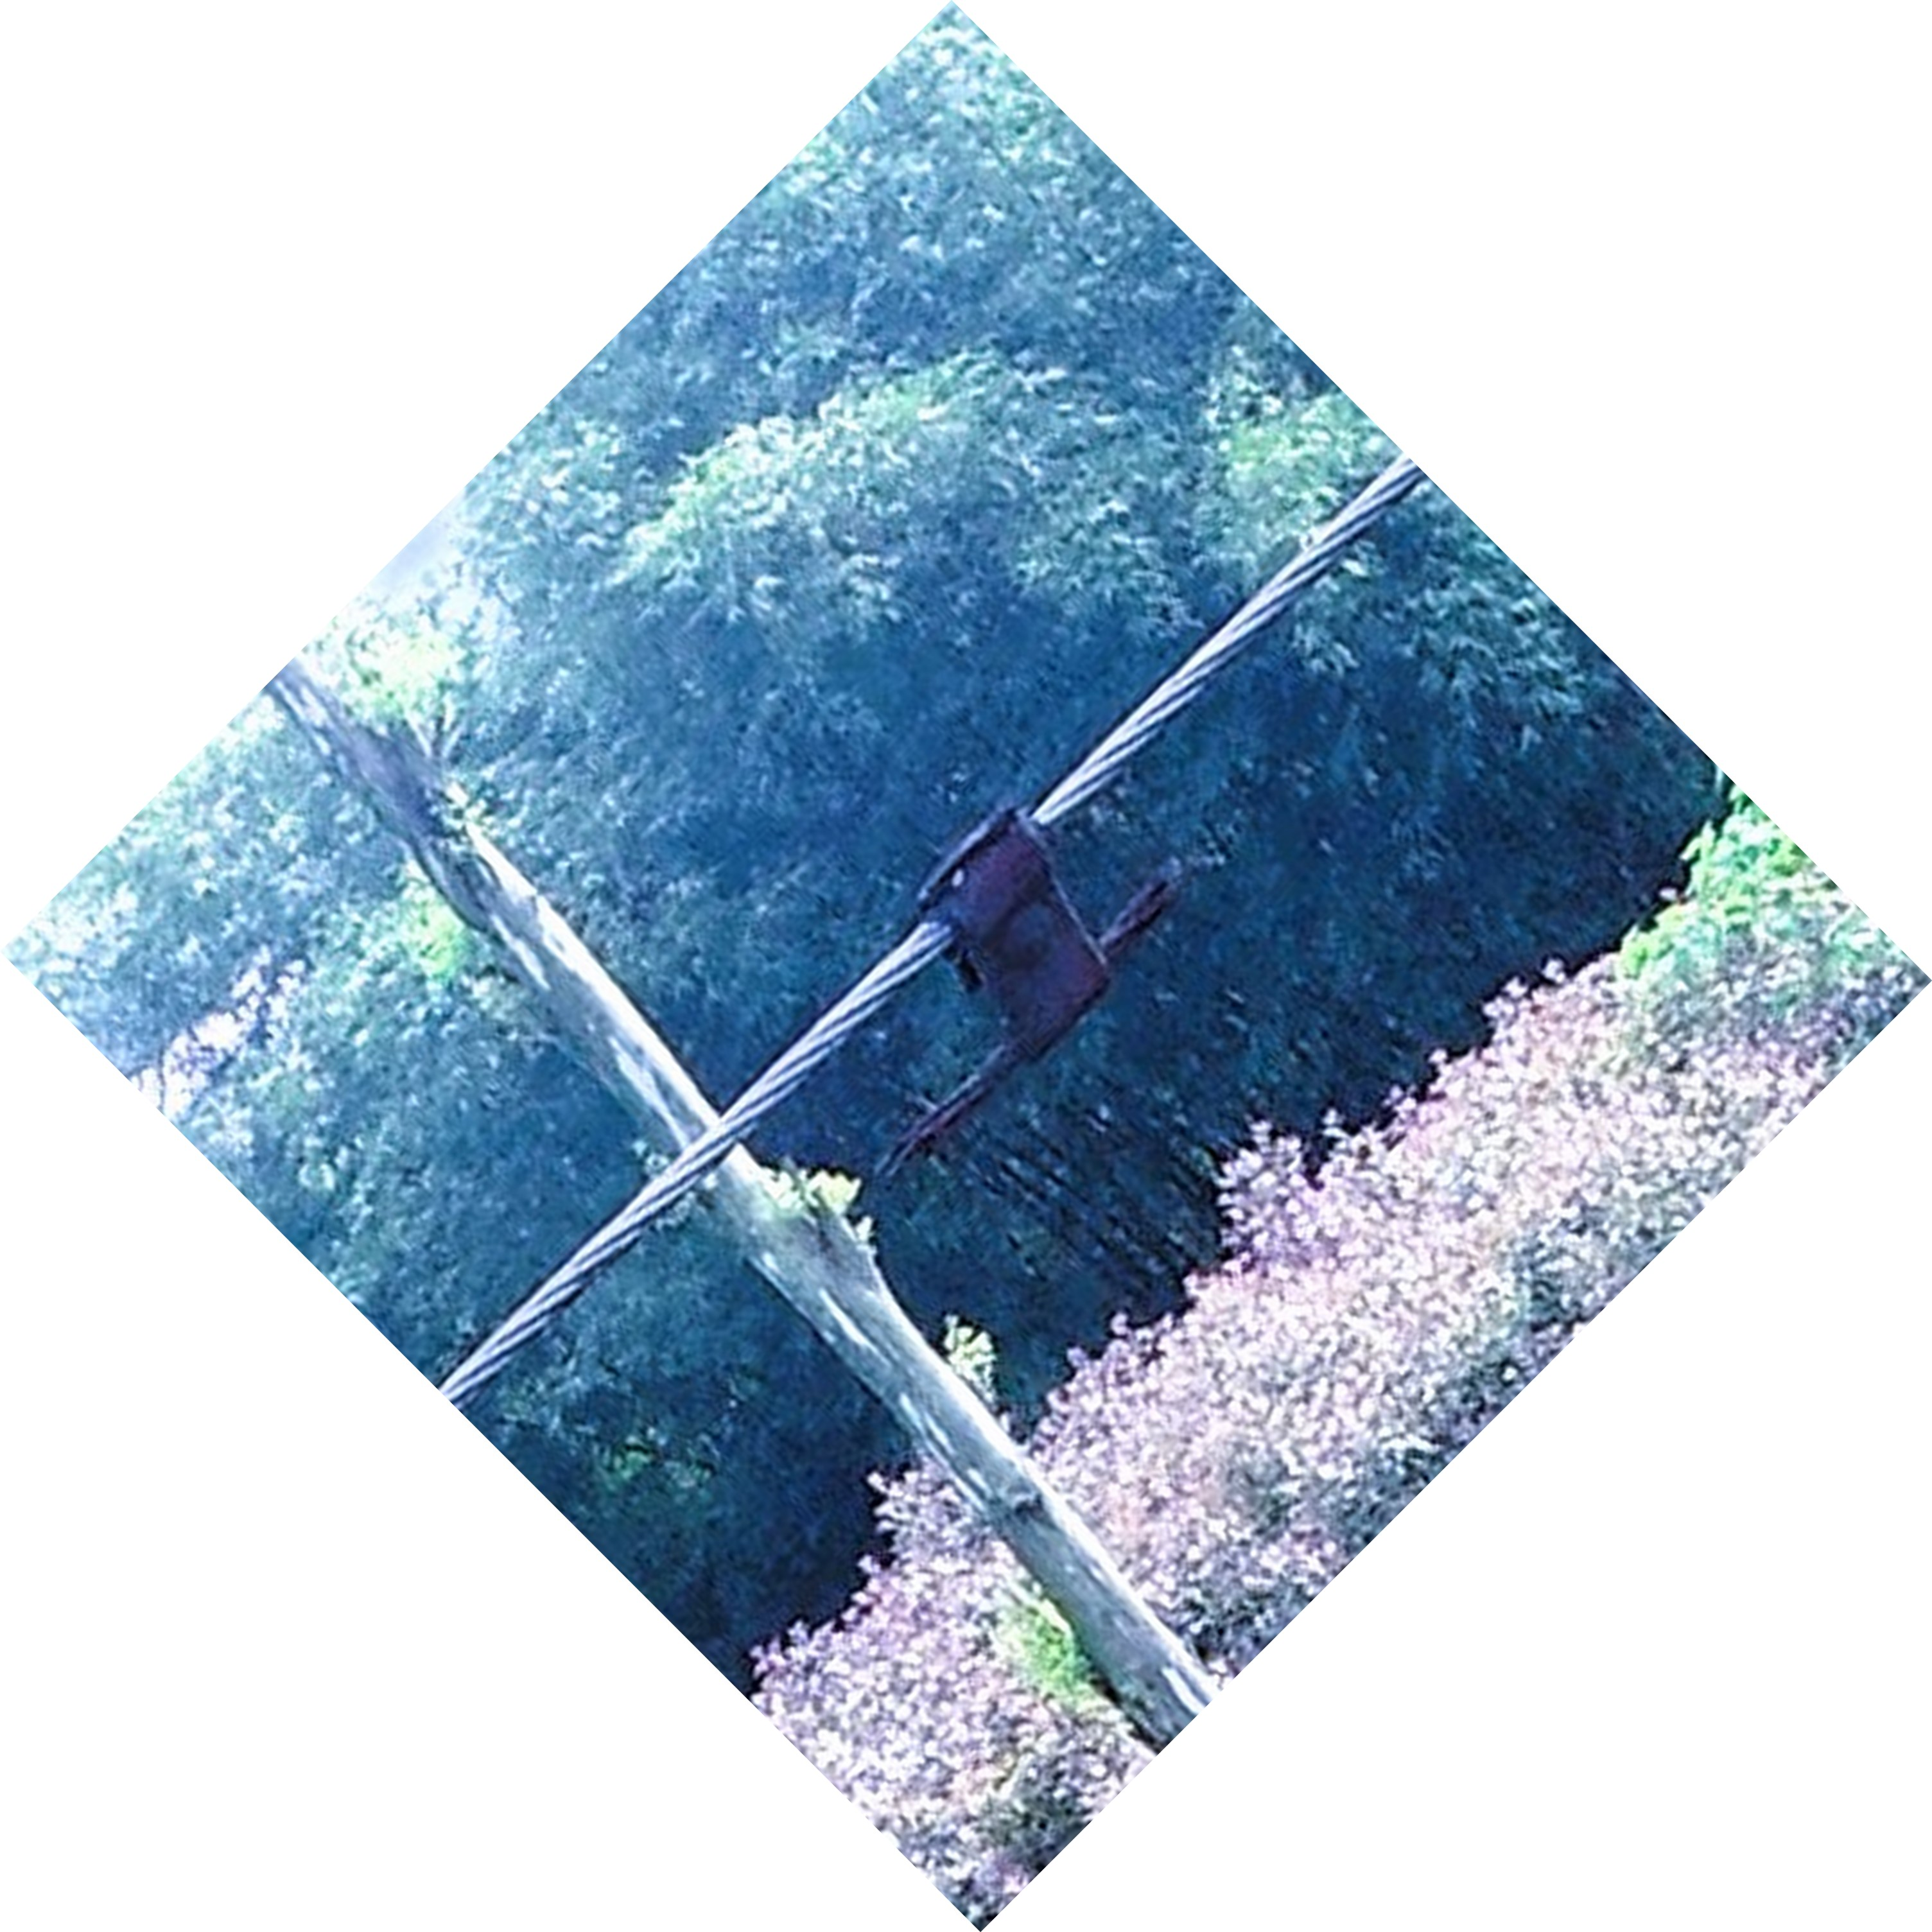Damage of shockproof hammer: (849, 775, 1210, 1184)
